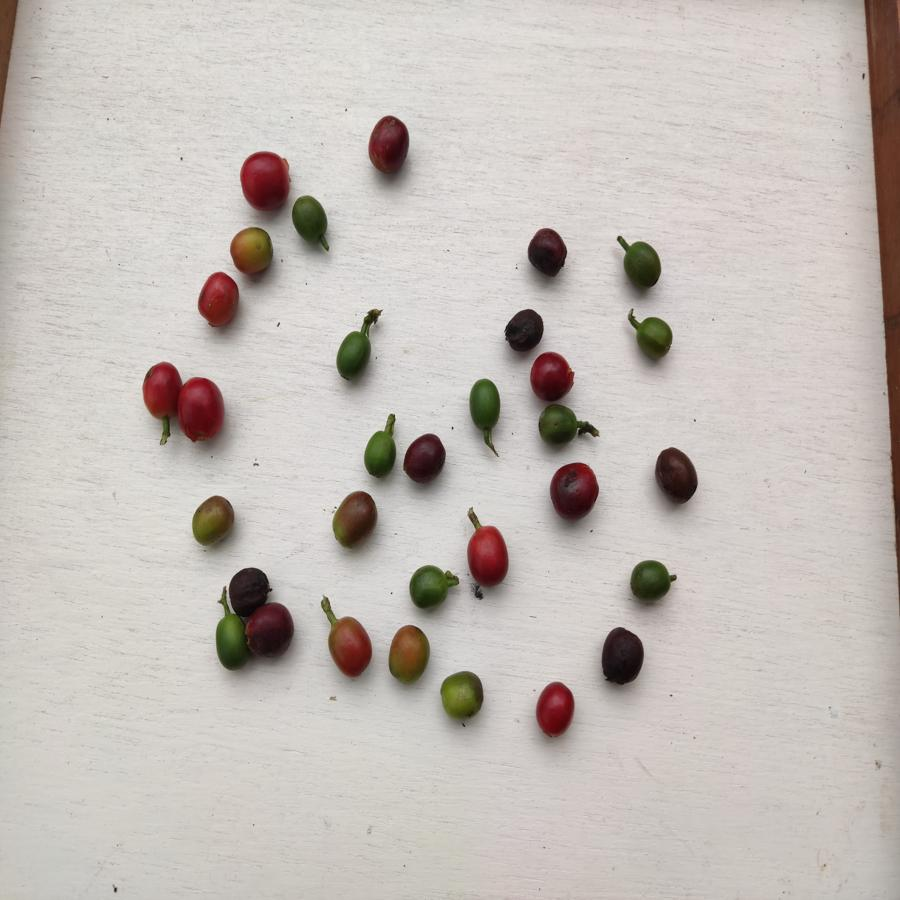Inmaduro: (334, 328, 375, 383), (620, 237, 665, 287), (290, 193, 332, 244), (632, 313, 676, 360), (213, 616, 249, 671), (629, 557, 671, 603), (409, 565, 452, 608), (538, 403, 579, 448), (468, 378, 502, 431), (364, 429, 396, 478)
Maduro: (174, 378, 228, 443), (325, 614, 377, 678), (462, 523, 513, 588), (239, 152, 293, 211), (533, 678, 578, 738), (198, 272, 242, 330), (142, 358, 181, 419)
Pinton: (330, 488, 378, 548), (440, 666, 484, 723), (389, 623, 429, 685), (228, 227, 275, 277), (191, 495, 235, 546)
Sobremaduro: (550, 459, 602, 523), (650, 443, 703, 504), (599, 622, 647, 688), (368, 113, 413, 176), (246, 605, 297, 658), (523, 225, 573, 276), (531, 349, 578, 403), (225, 567, 274, 616), (404, 428, 447, 483), (503, 303, 546, 354)
